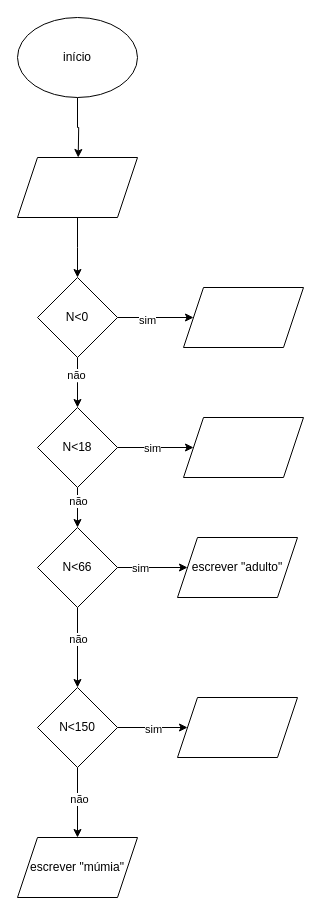
Some shapes in this 321 by 915 pixel diagram are drawn without their labels. The shapes that lost their labels are listed below. From the top down, each one's centre as x and y in pixels, then its label:
point 77,187: ler N
point 243,317: escrever "burro"
point 243,447: escrever "puto"
point 237,727: escrever "velhinho"
